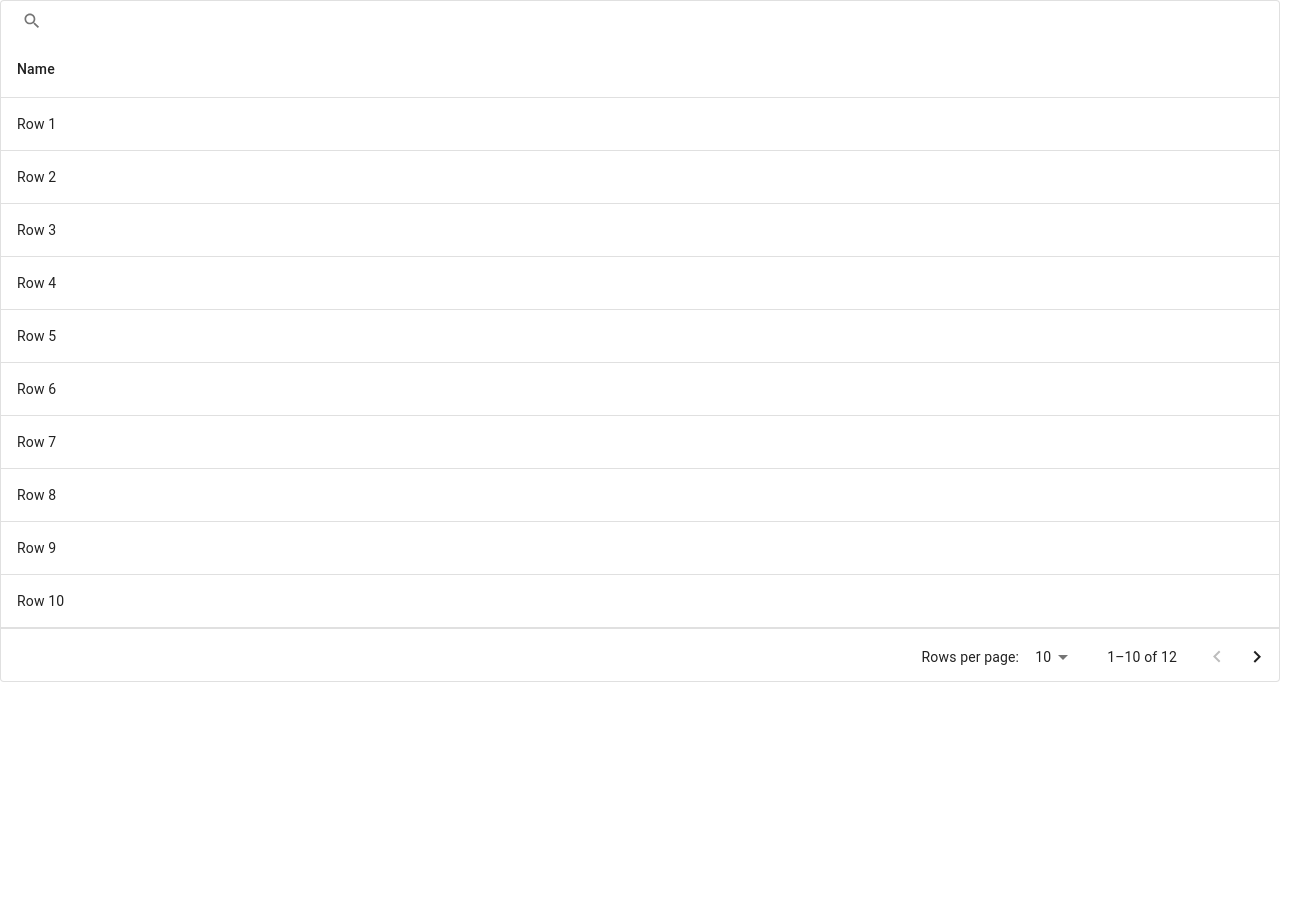
Test: ListTable › filters rows by text input
Click the button named "Search": x=32, y=21 [17,6,47,36]
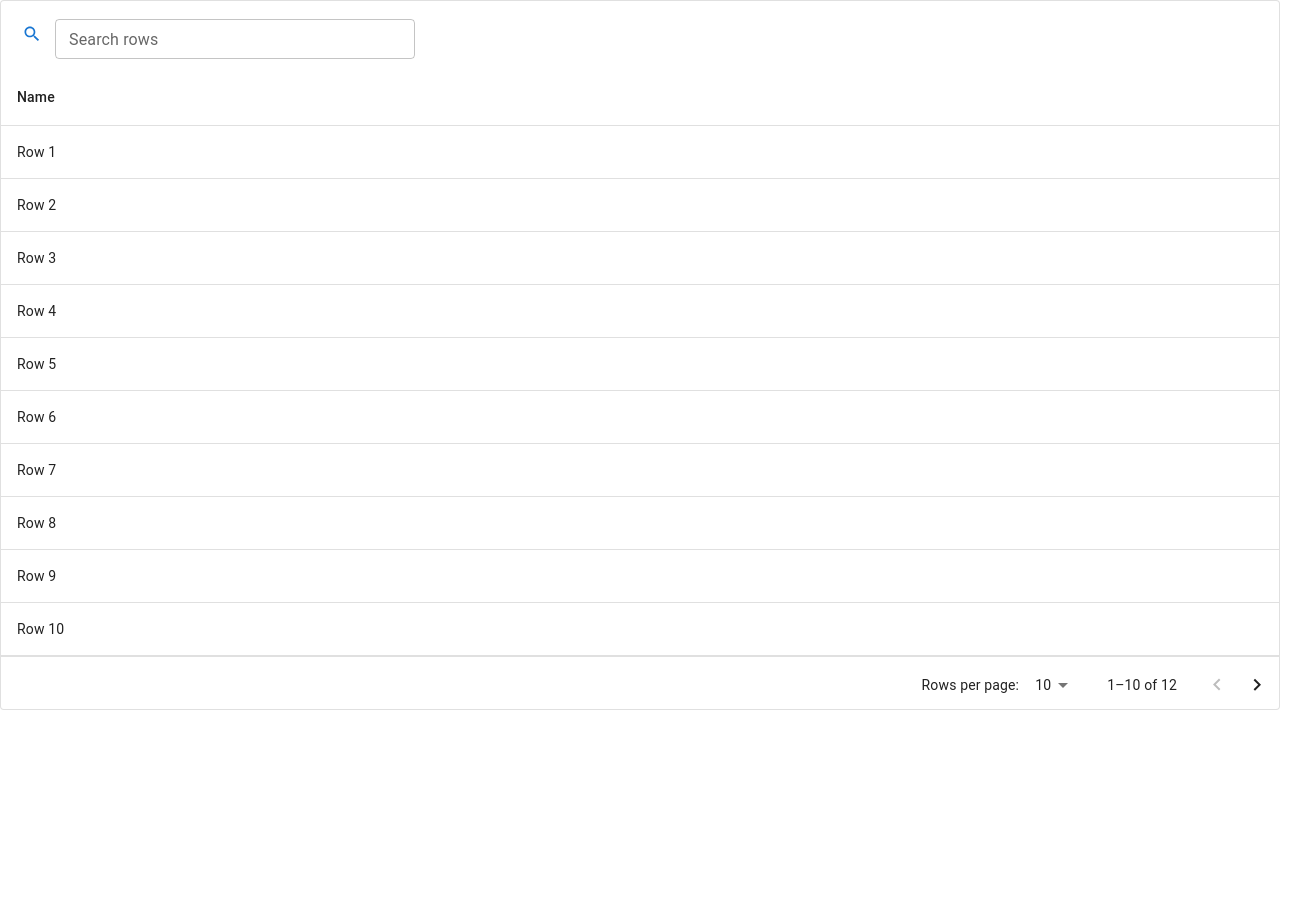
In the field labelled "Search rows": x=235, y=39 [55,19,415,59], type "Row 11"
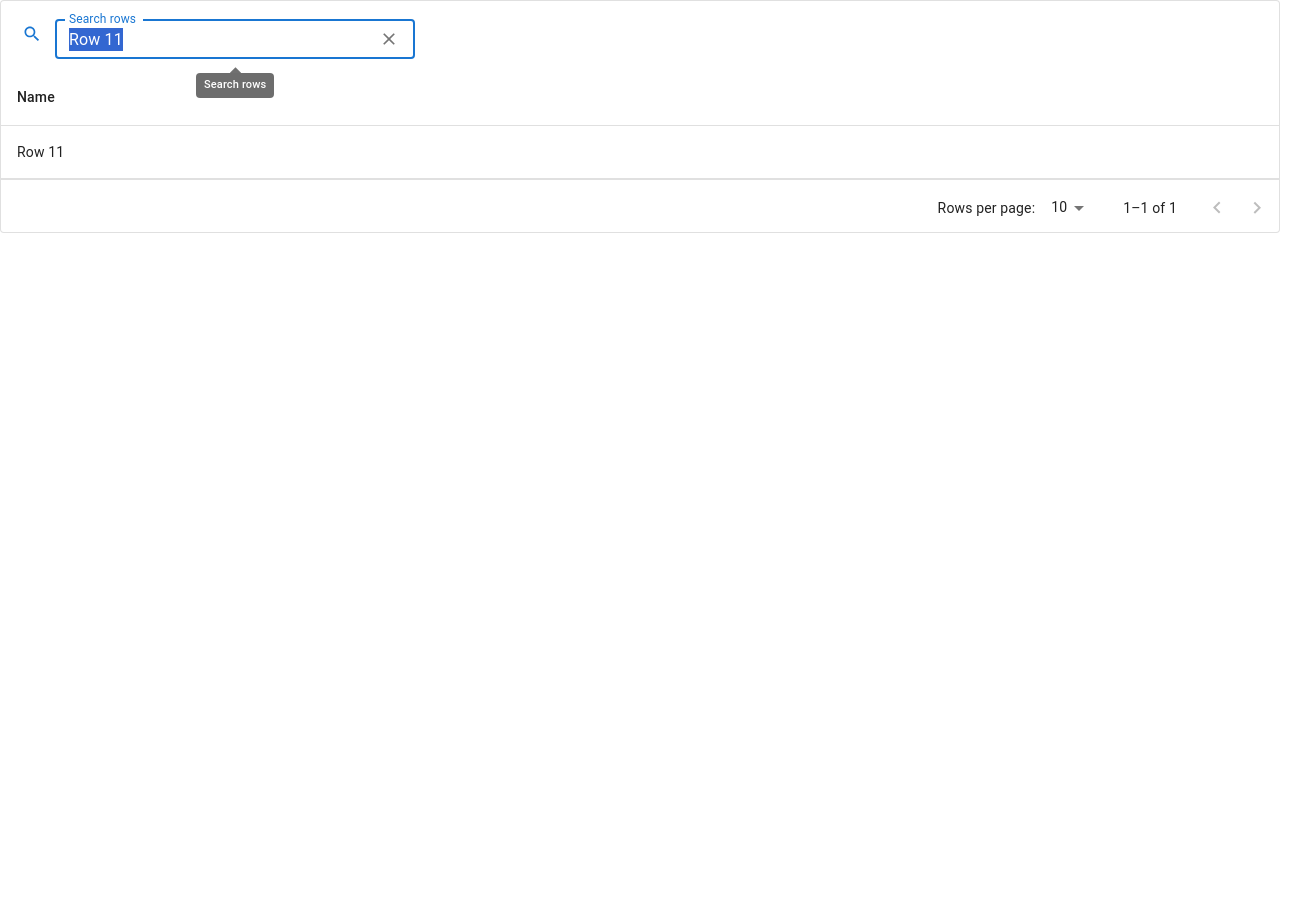
Check: the text "Row 11" is shown, box [17,144,64,160]
